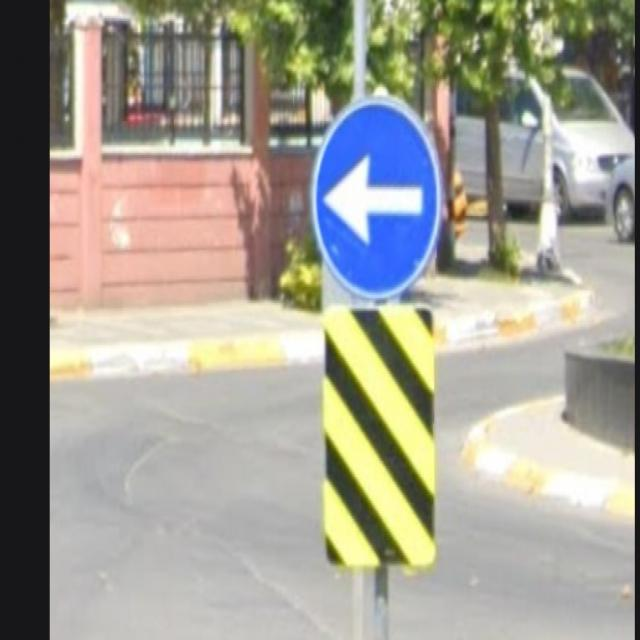Turn Left: (316, 101, 435, 293)
